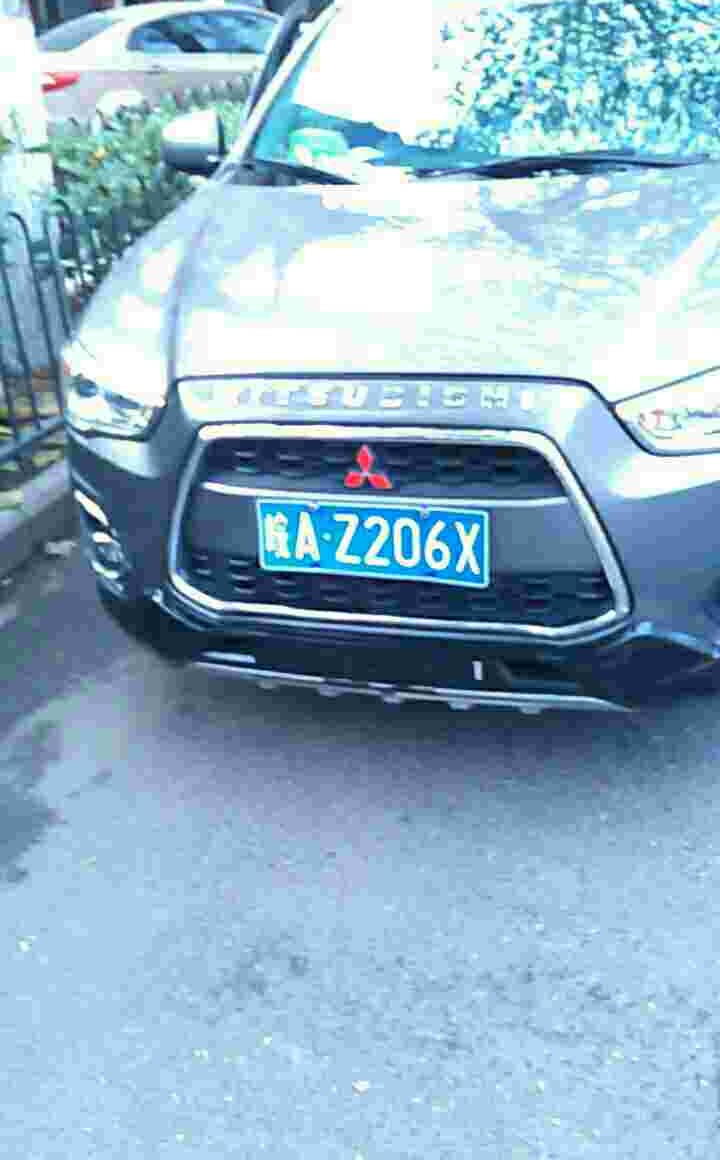plate: (256, 492, 494, 588)
